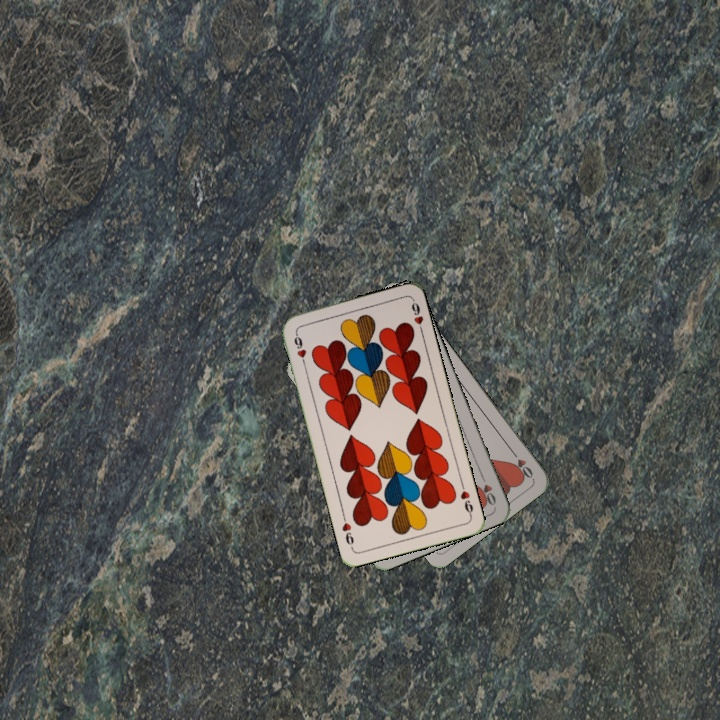H9: (456, 479, 476, 519), (290, 328, 309, 368)
HO: (507, 446, 536, 481), (476, 470, 498, 508)
